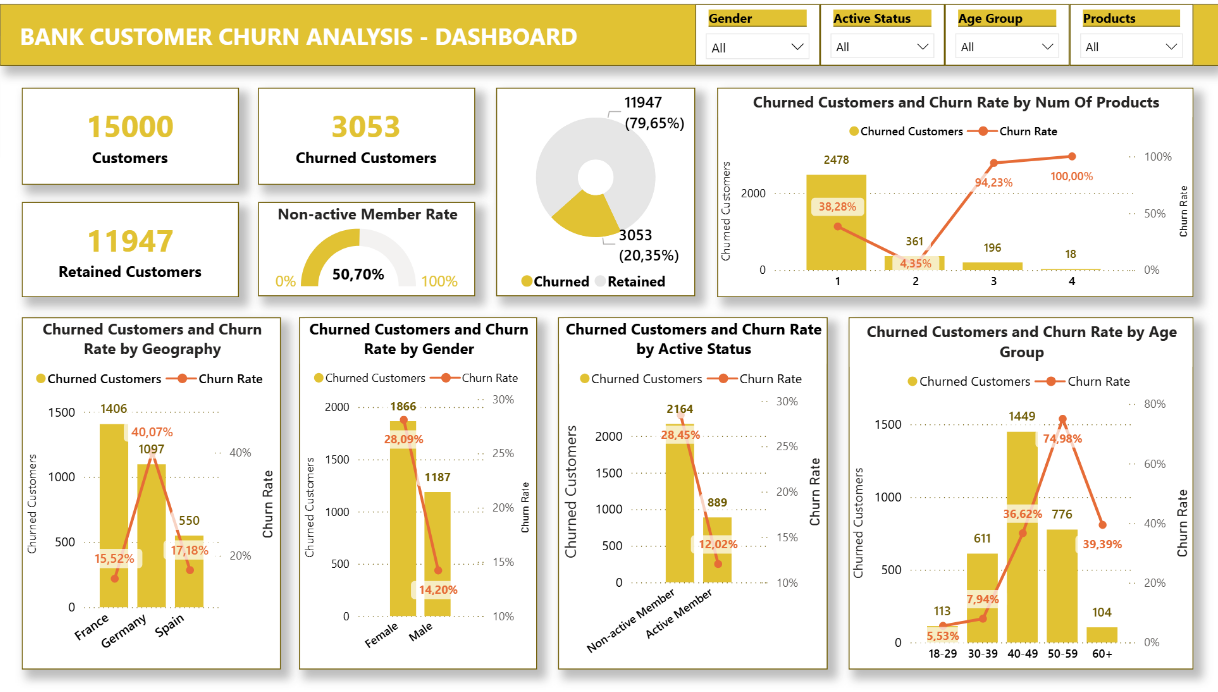

The dashboard page shown, as its layout file describes it:
{"tool":"powerbi","page":{"name":"Bank Churn","canvas":[1280,720],"ordinal":0},"visuals":[{"type":"shape","box":[0,0,1280.3,64.8],"z":0},{"type":"cardVisual","fields":{"Data":["vw_BankCustomerChurn_train.Customers"]},"box":[23.2,88,227.4,101.5],"z":1000},{"type":"cardVisual","fields":{"Data":["vw_BankCustomerChurn_train.Retained Customers"]},"box":[23.2,207.9,227.4,100.3],"z":2000},{"type":"slicer","fields":{"Values":["vw_BankCustomerChurn_train.Gender"]},"box":[730,0,130.8,64.8],"z":3000},{"type":"donutChart","fields":{"Y":["vw_BankCustomerChurn_train.Churned Customers","vw_BankCustomerChurn_train.Retained Customers"]},"box":[520.9,88,209.1,218.9],"z":4000},{"type":"gauge","title":"Non-active Member Rate","fields":{"Y":["vw_BankCustomerChurn_train.NonActiveMemberRate"]},"box":[271.5,207.9,227.4,99],"z":5000},{"type":"slicer","fields":{"Values":["vw_BankCustomerChurn_train.IsActiveMember"]},"box":[860.9,0,130.8,64.8],"z":6000},{"type":"slicer","fields":{"Values":["Dim_AgeGroup.AgeGroup"]},"box":[991.7,0,130.8,64.8],"z":7000},{"type":"lineClusteredColumnComboChart","fields":{"Category":["vw_BankCustomerChurn_train.Geography"],"Y":["vw_BankCustomerChurn_train.Churned Customers"],"Y2":["vw_BankCustomerChurn_train.Churn Rate"]},"box":[23.2,328.9,271.5,370.5],"z":8000},{"type":"lineClusteredColumnComboChart","fields":{"Category":["vw_BankCustomerChurn_train.Gender"],"Y":["vw_BankCustomerChurn_train.Churned Customers"],"Y2":["vw_BankCustomerChurn_train.Churn Rate"]},"box":[314.3,328.9,249.5,370.5],"z":9000},{"type":"lineClusteredColumnComboChart","title":"Churned Customers and Churn Rate by Age Group","fields":{"Y":["vw_BankCustomerChurn_train.Churned Customers"],"Category":["Dim_AgeGroup.AgeGroup_Name"],"Y2":["vw_BankCustomerChurn_train.Churn Rate"]},"box":[891.4,328.9,362,370.5],"z":10000},{"type":"cardVisual","fields":{"Data":["vw_BankCustomerChurn_train.Churned Customers"]},"box":[271.5,88,227.4,101.5],"z":11000},{"type":"slicer","fields":{"Values":["vw_BankCustomerChurn_train.NumOfProducts"]},"box":[1122.6,0,130.8,64.8],"z":12000},{"type":"lineClusteredColumnComboChart","fields":{"Category":["vw_BankCustomerChurn_train.NumOfProducts"],"Y":["vw_BankCustomerChurn_train.Churned Customers"],"Y2":["vw_BankCustomerChurn_train.Churn Rate"]},"box":[753.3,88,500.1,220.1],"z":13000},{"type":"lineClusteredColumnComboChart","fields":{"Category":["vw_BankCustomerChurn_train.IsActiveMember"],"Y":["vw_BankCustomerChurn_train.Churned Customers"],"Y2":["vw_BankCustomerChurn_train.Churn Rate"]},"box":[585.7,328.9,283.7,370.5],"z":14000}]}

Visuals, with their boxes in screenshot pixels (x1, y1, x2, y2), scaled from the page's 1280x720 canvas onto the 1218x692 screenshot:
shape: bbox=[0, 0, 1217, 62]
cardVisual - vw_BankCustomerChurn_train.Customers: bbox=[22, 85, 238, 182]
cardVisual - vw_BankCustomerChurn_train.Retained Customers: bbox=[22, 200, 238, 296]
slicer - vw_BankCustomerChurn_train.Gender: bbox=[695, 0, 819, 62]
donutChart - vw_BankCustomerChurn_train.Churned Customers x vw_BankCustomerChurn_train.Retained Customers: bbox=[496, 85, 695, 295]
"Non-active Member Rate" gauge: bbox=[258, 200, 475, 295]
slicer - vw_BankCustomerChurn_train.IsActiveMember: bbox=[819, 0, 944, 62]
slicer - Dim_AgeGroup.AgeGroup: bbox=[944, 0, 1068, 62]
lineClusteredColumnComboChart - vw_BankCustomerChurn_train.Geography x vw_BankCustomerChurn_train.Churned Customers: bbox=[22, 316, 280, 672]
lineClusteredColumnComboChart - vw_BankCustomerChurn_train.Gender x vw_BankCustomerChurn_train.Churned Customers: bbox=[299, 316, 536, 672]
"Churned Customers and Churn Rate by Age Group" lineClusteredColumnComboChart: bbox=[848, 316, 1193, 672]
cardVisual - vw_BankCustomerChurn_train.Churned Customers: bbox=[258, 85, 475, 182]
slicer - vw_BankCustomerChurn_train.NumOfProducts: bbox=[1068, 0, 1193, 62]
lineClusteredColumnComboChart - vw_BankCustomerChurn_train.NumOfProducts x vw_BankCustomerChurn_train.Churned Customers: bbox=[717, 85, 1193, 296]
lineClusteredColumnComboChart - vw_BankCustomerChurn_train.IsActiveMember x vw_BankCustomerChurn_train.Churned Customers: bbox=[557, 316, 827, 672]
